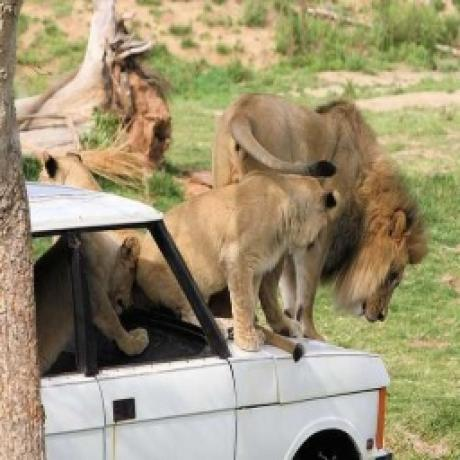Lion: (216, 89, 430, 340), (134, 172, 344, 348), (31, 226, 153, 364)
